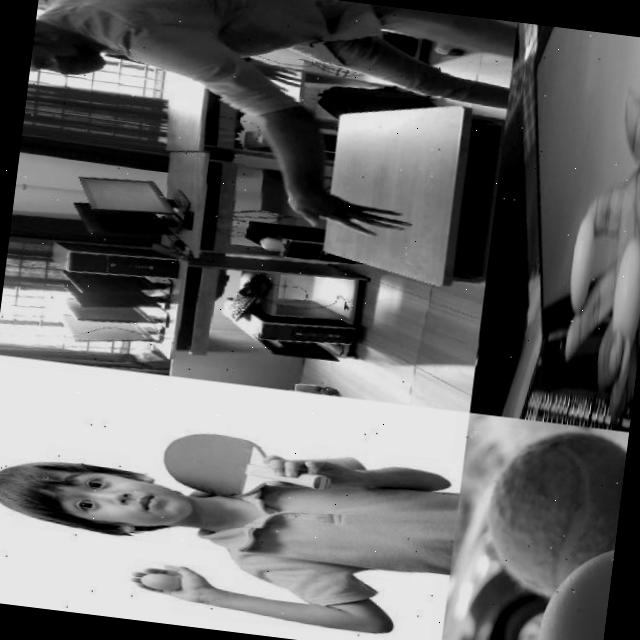ping-pong-ball: (533, 536, 615, 640), (606, 240, 640, 352), (564, 212, 598, 314), (139, 570, 179, 591), (256, 234, 284, 252)
